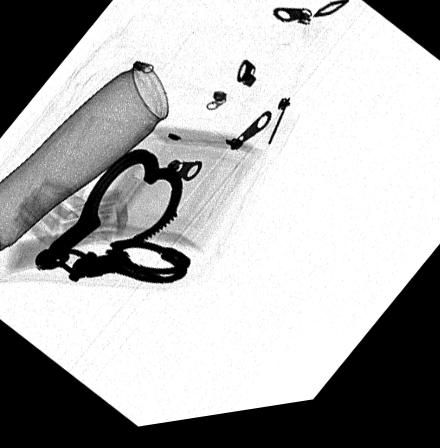HandCuffs: (34, 152, 190, 288)
